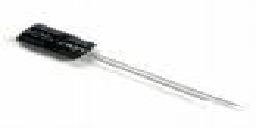Electrolytic-Capacitor: (14, 20, 245, 108)
